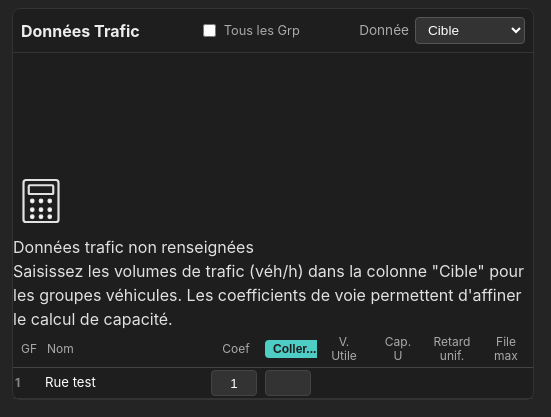
Test: TrafficTable — copie d’un jeu de trafic › propose seulement les sources renseignées et rafraîchit le tableau après copie
The width and height of the screenshot is (551, 417).
Click the button "Coller..." at (295, 349), box [265, 340, 324, 358]
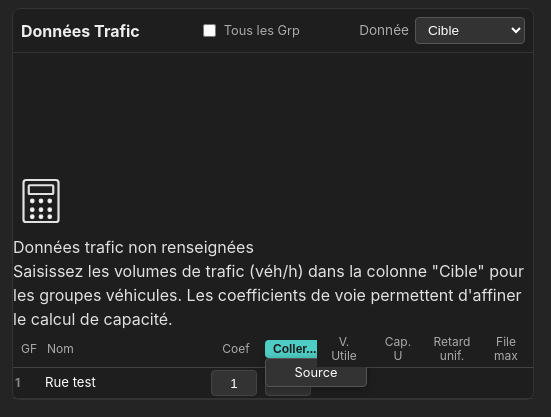
Expected: the element showing "Source" does not show "Vide", [265, 358, 367, 387]
Result: the text "Source" is shown
Click the text "Source" at (316, 372), box [295, 365, 337, 380]
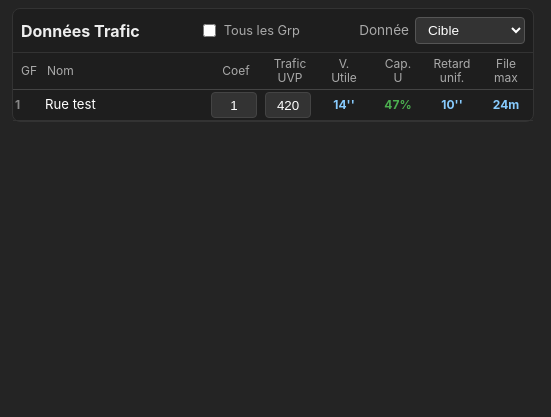
Result: the field showing "420" is shown at [265, 92, 311, 118]
Result: the text "Données trafic non renseignées" is gone
